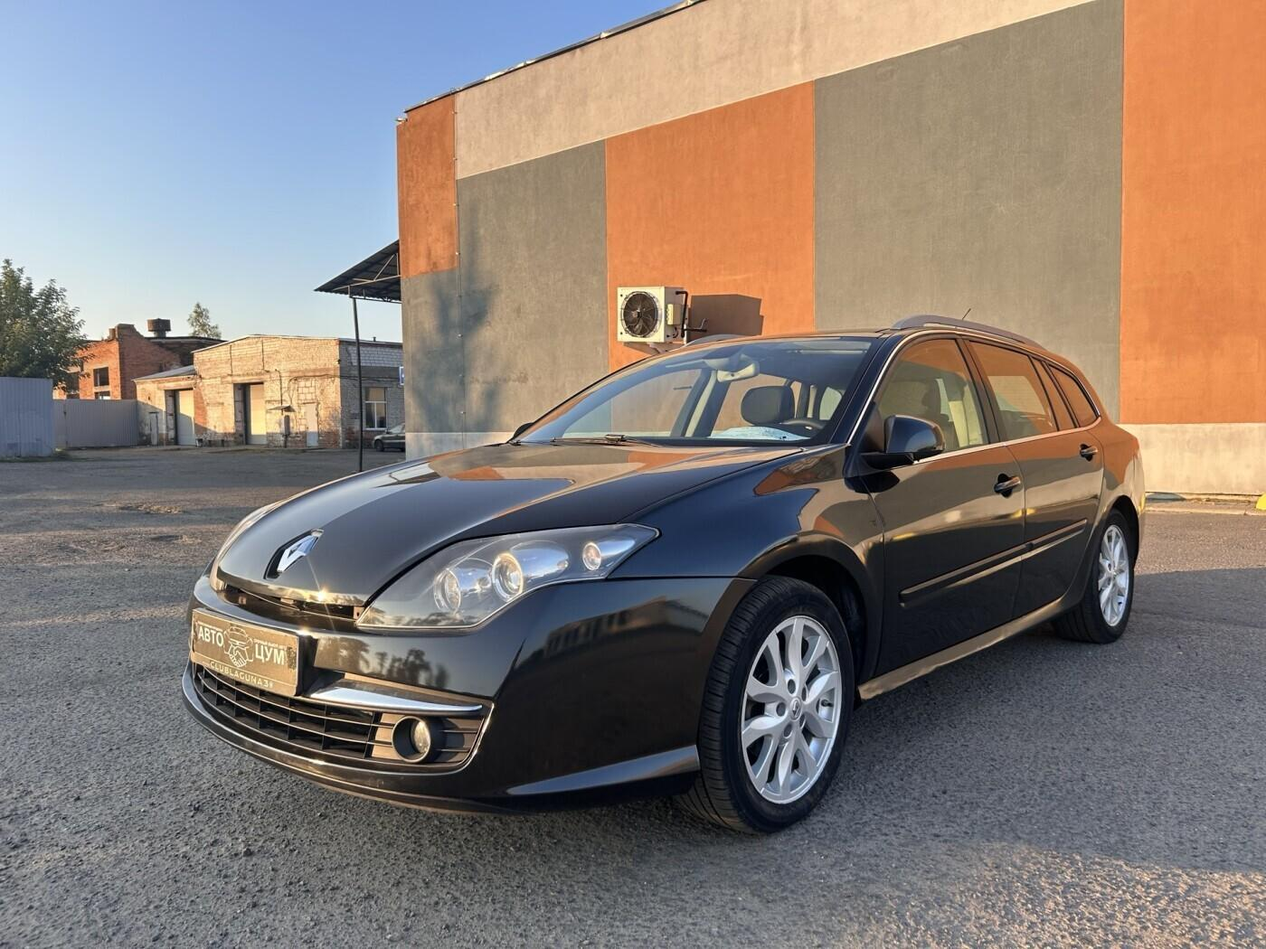Laguna_2007-2011: (183, 319, 1145, 832)
